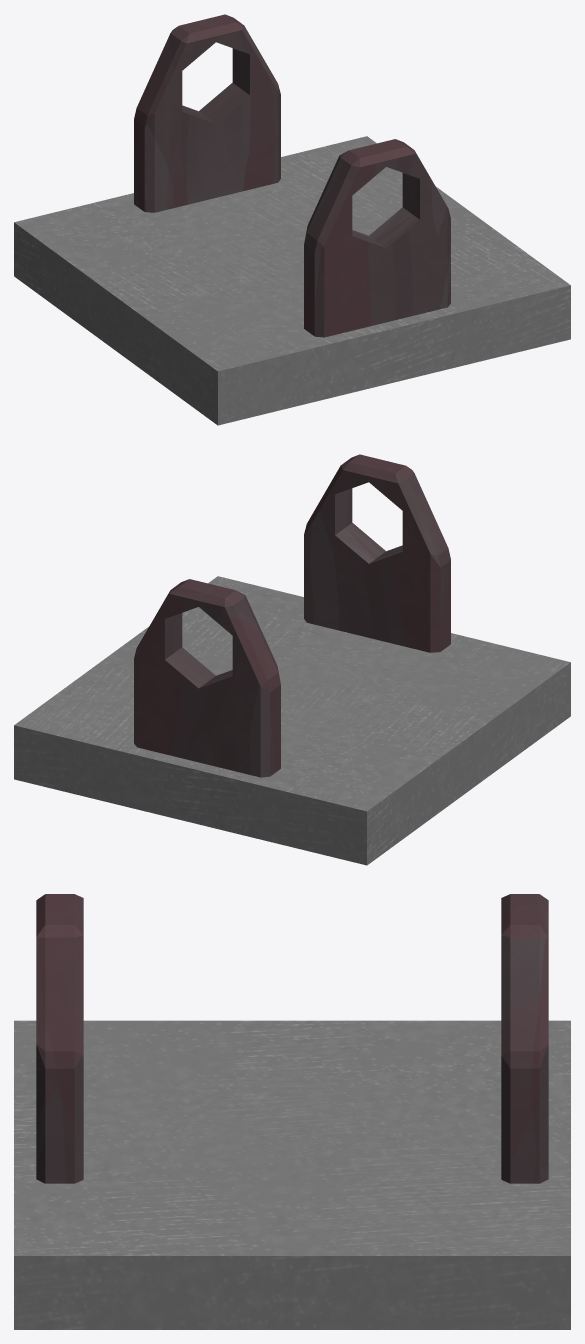
File: Air Cannon Base.fbx
3 renders of one model, top to bottom at view 1: azimuth 30°, elevation 25°; view 2: azimuth 150°, elevation 25°; view 3: azimuth 270°, elevation 25°, orthographic. The views are drawn at different scales.
Parts seen in each view (by area): view 1: air_cannon_base; view 2: air_cannon_base; view 3: air_cannon_base.
Part boxes in pixels (x1,y1,x2,y2): air_cannon_base: (14,14,570,425); air_cannon_base: (14,454,570,865); air_cannon_base: (14,894,570,1329).
Bounding box in the file's own units: 133 × 79.49 × 133.
